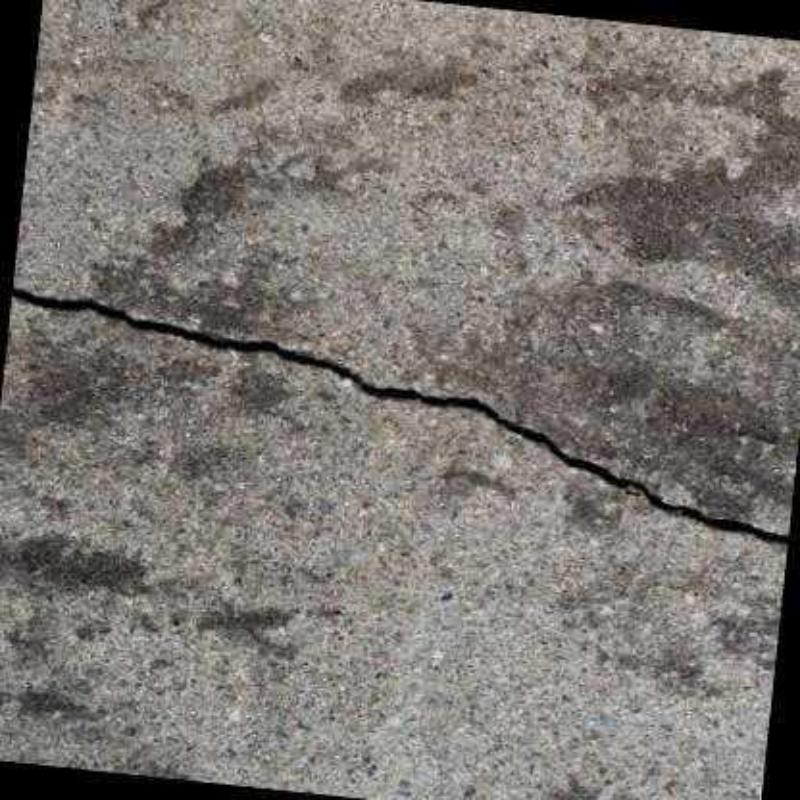crack: (12, 289, 791, 547)
